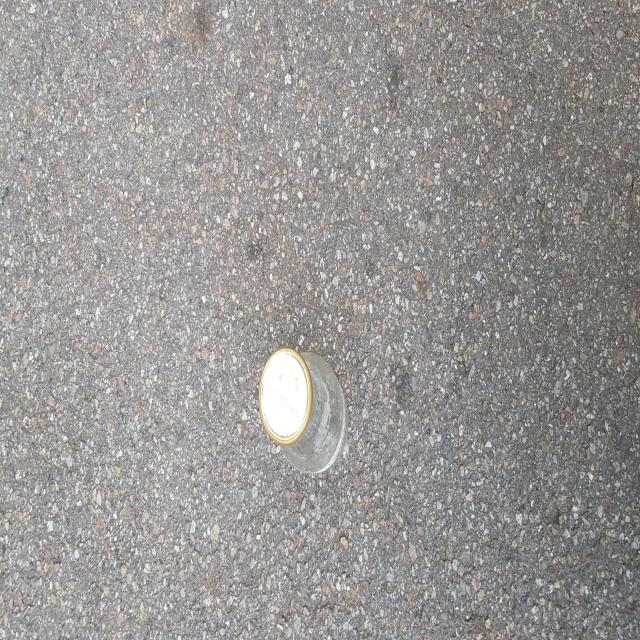glass: (259, 347, 347, 473)
